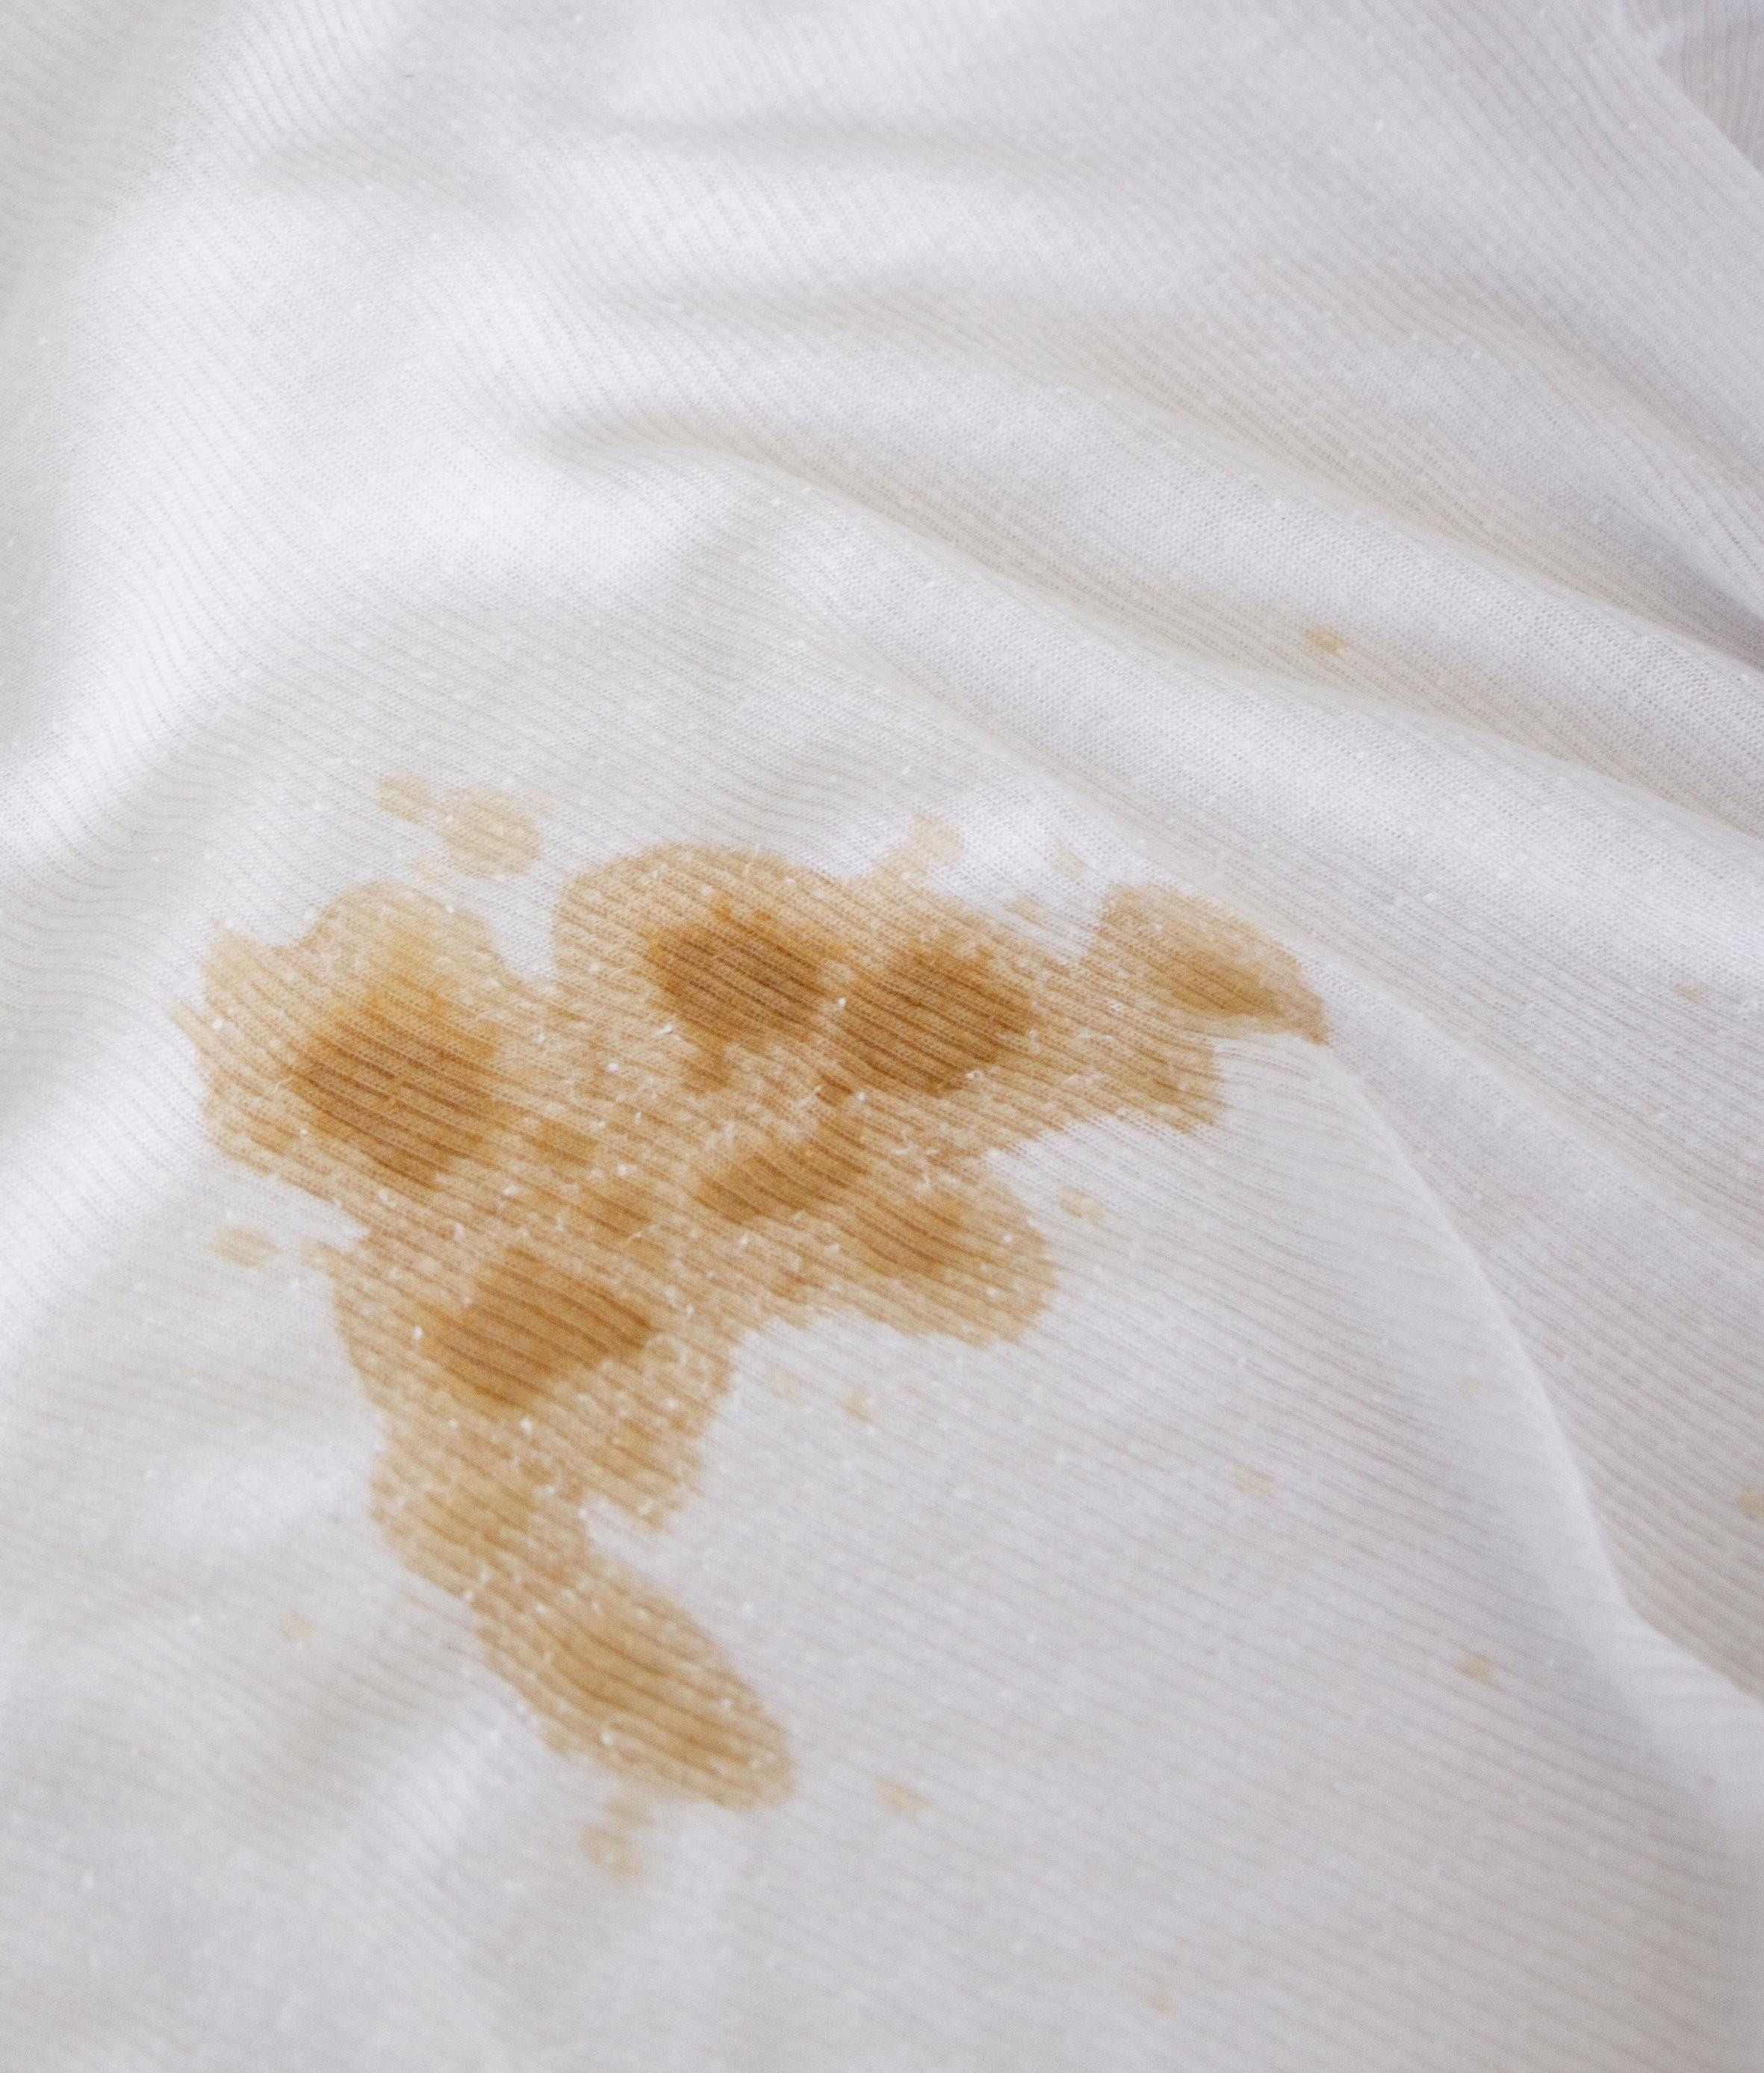gun: (161, 802, 1318, 1800)
